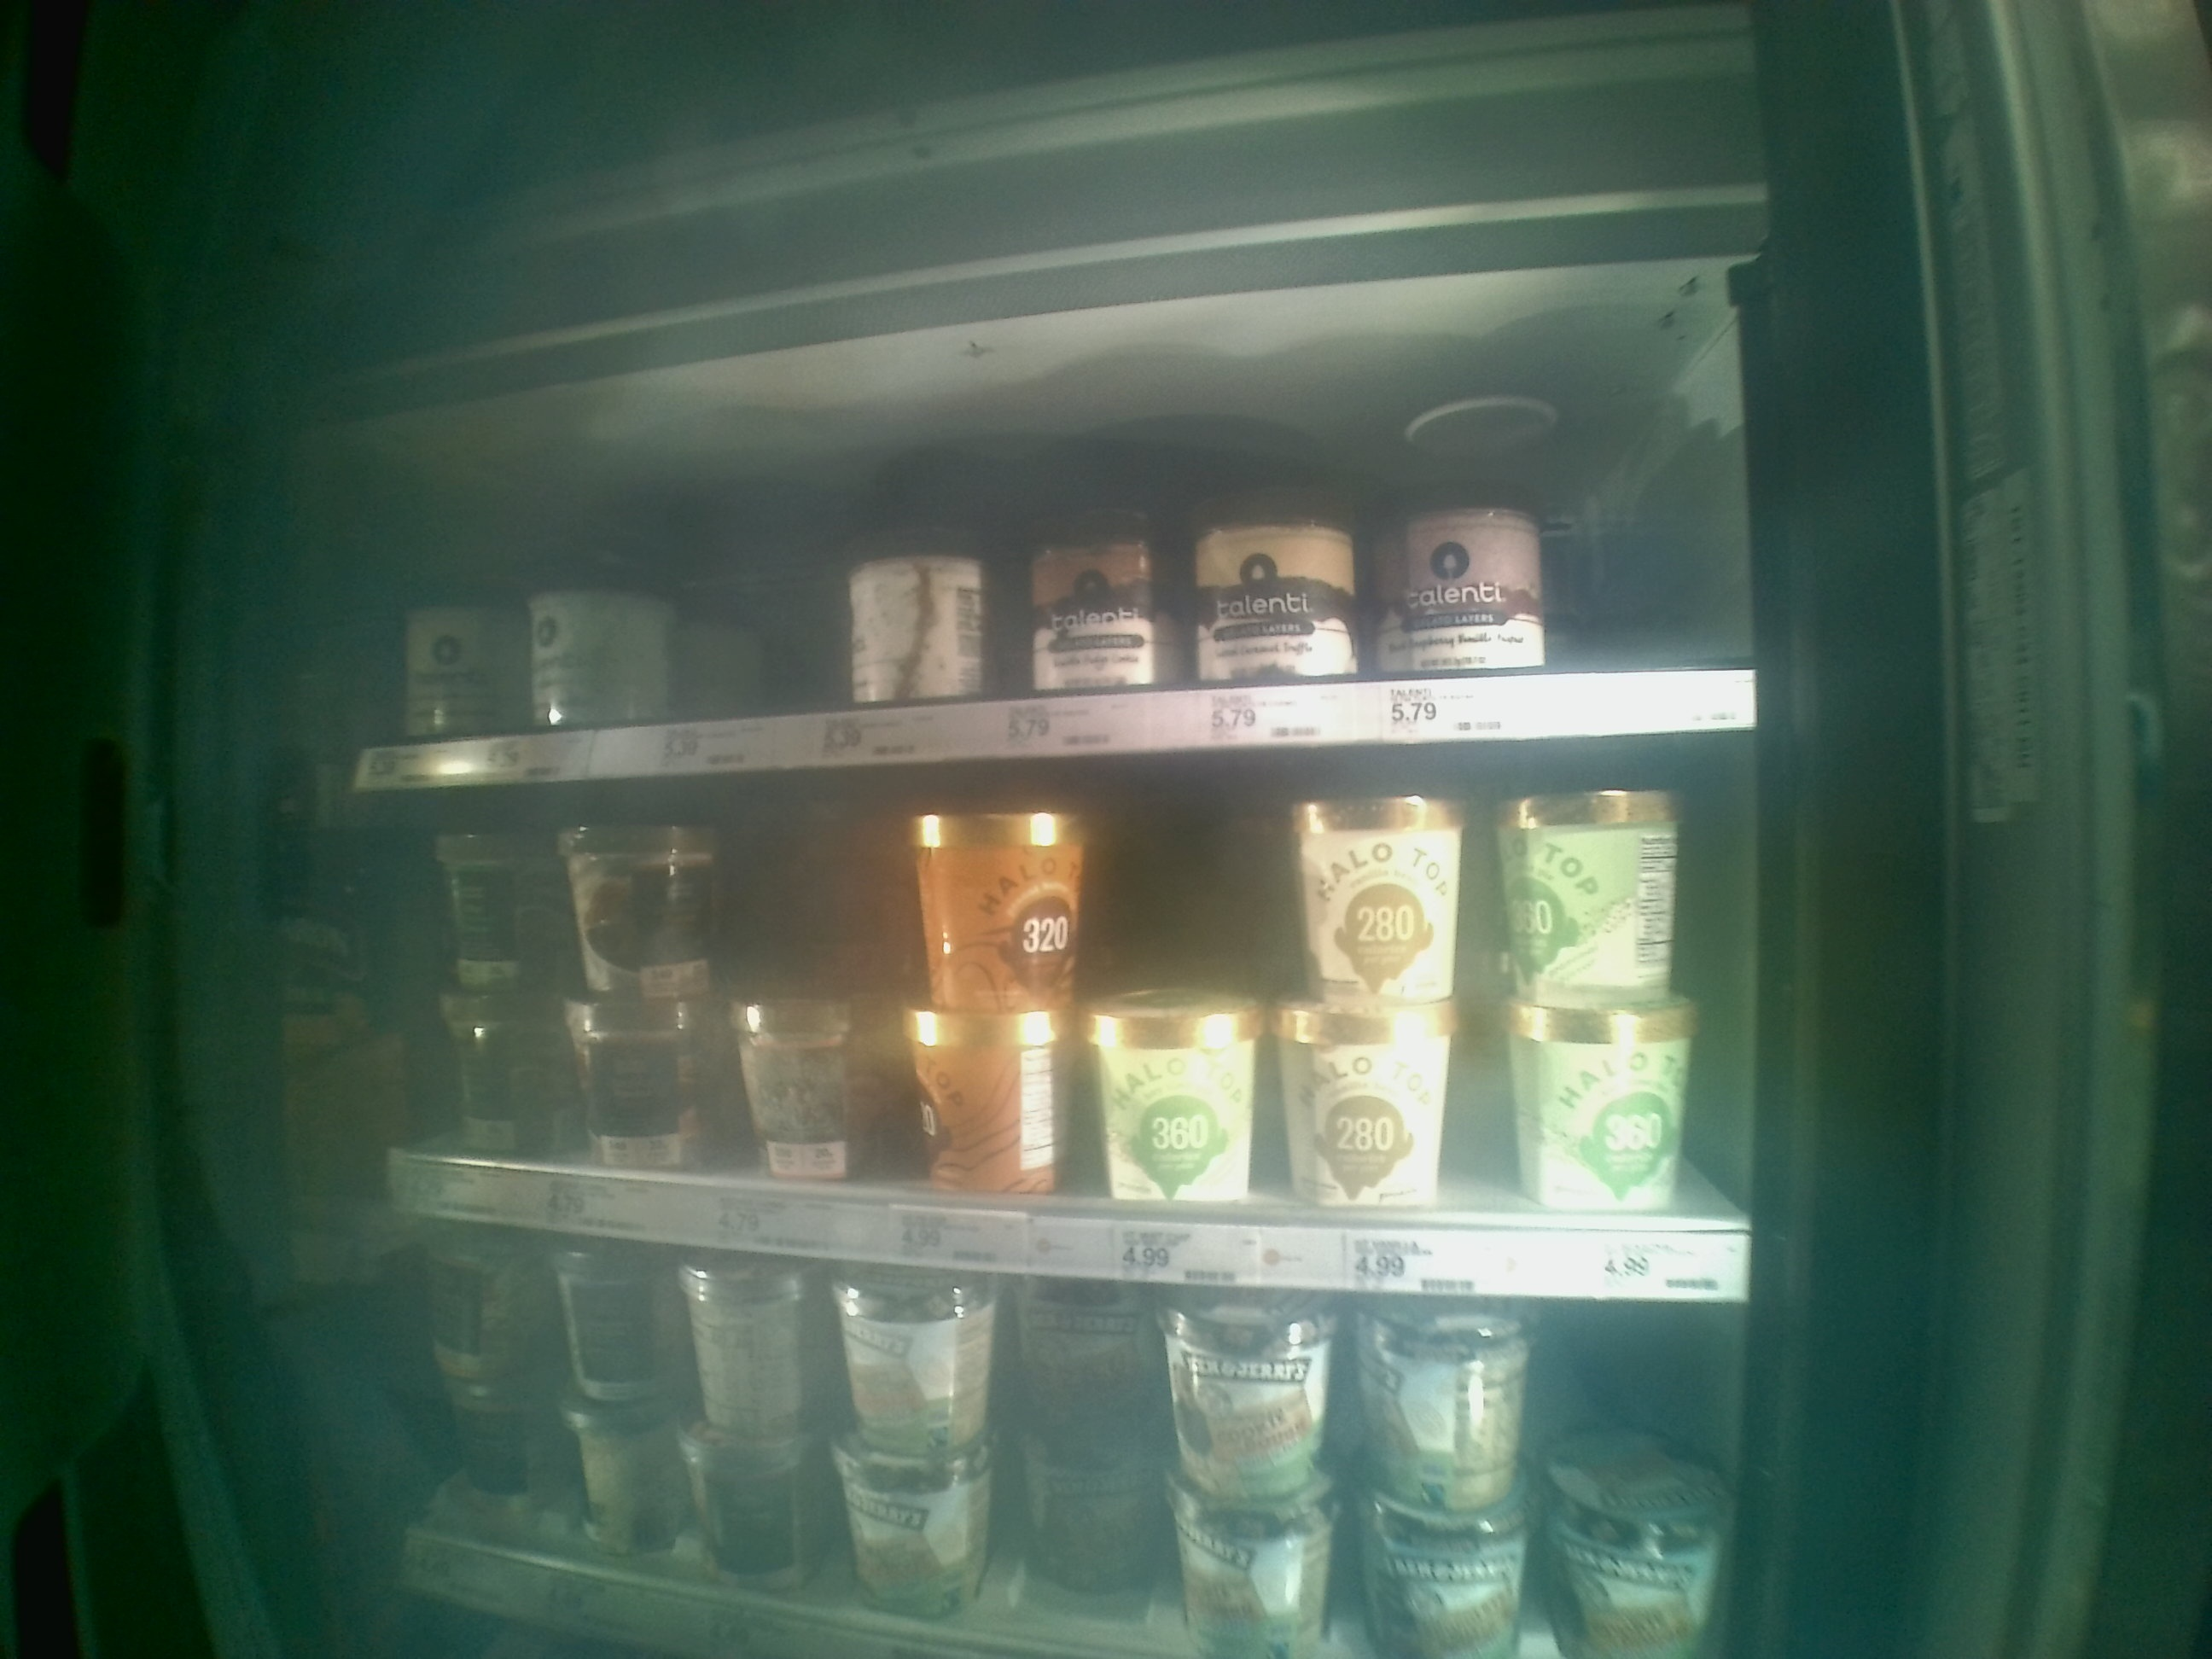shelf: (366, 732, 1754, 1309), (336, 355, 1749, 798)
